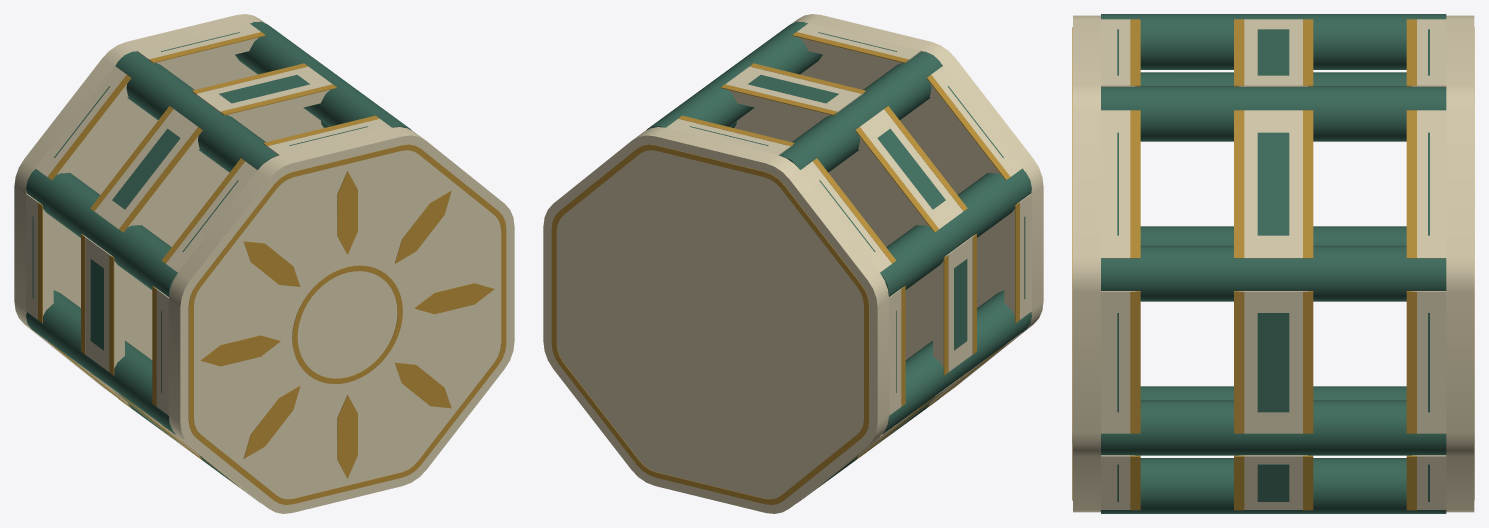
File: h80_housing.obj
3 views of the same model, side by side, from view 1: azimuth 30°, elevation 25°; view 2: azimuth 150°, elevation 25°; view 3: azimuth 270°, elevation 25° (orthographic). The views are drawn at different scales.
Parts seen in each view (by area): view 1: h80_housing; view 2: h80_housing; view 3: h80_housing.
Boxes of the visible parts, x1,y1,x2,y2 form: h80_housing: [14, 14, 514, 513]; h80_housing: [543, 14, 1043, 513]; h80_housing: [1072, 14, 1474, 513].
Bounding box in the file's own units: 5.04 × 5.04 × 4.35.
